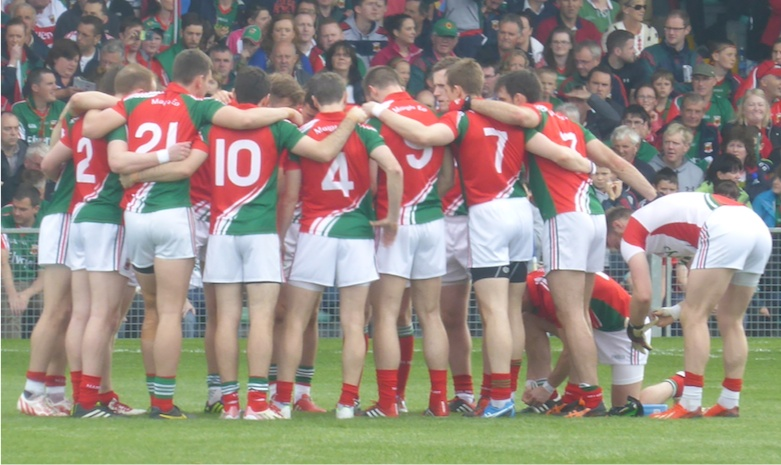player: (352, 54, 472, 404), (434, 63, 555, 396), (494, 74, 618, 389), (606, 175, 759, 428), (189, 55, 295, 404), (274, 67, 382, 396), (120, 43, 206, 389), (73, 63, 145, 393)
